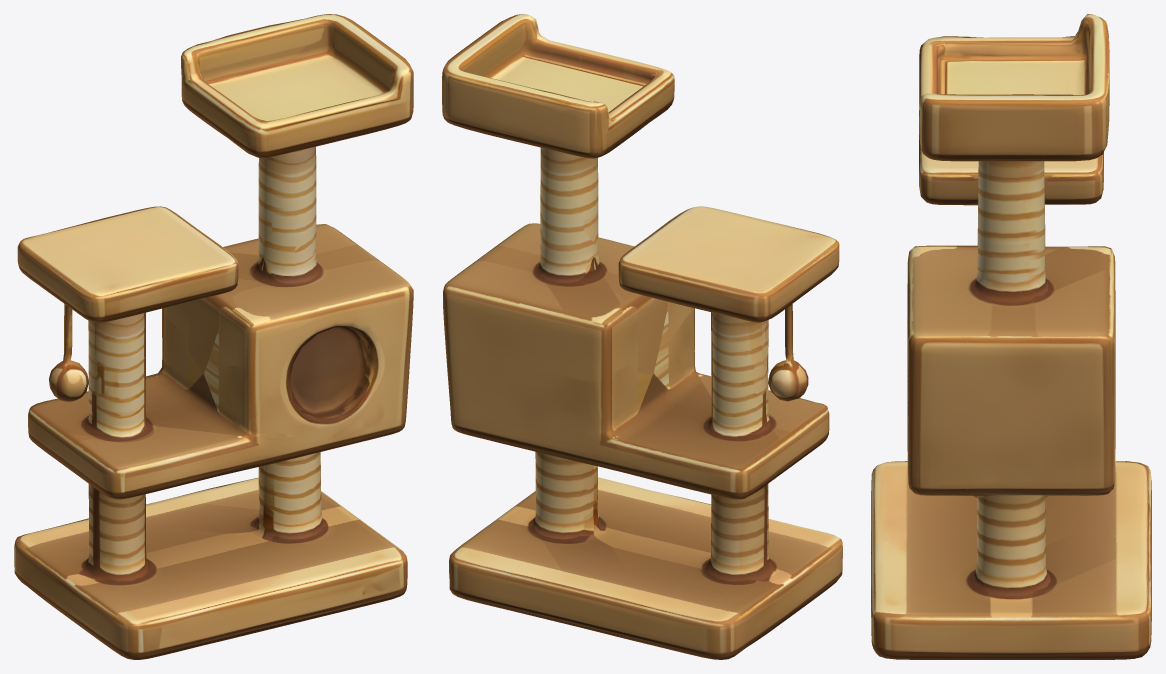
The model's file is cattower.obj.
3 views of the same model, side by side, from view 1: azimuth 30°, elevation 25°; view 2: azimuth 150°, elevation 25°; view 3: azimuth 270°, elevation 25° (orthographic). The views are drawn at different scales.
Visible parts, largest first — view 1: 60ce44d6-eabd-42ae-8cfb-a3463ad52caa; view 2: 60ce44d6-eabd-42ae-8cfb-a3463ad52caa; view 3: 60ce44d6-eabd-42ae-8cfb-a3463ad52caa.
Part boxes in pixels (bbox=[...]): 60ce44d6-eabd-42ae-8cfb-a3463ad52caa: bbox=[14, 14, 413, 659]; 60ce44d6-eabd-42ae-8cfb-a3463ad52caa: bbox=[442, 14, 842, 659]; 60ce44d6-eabd-42ae-8cfb-a3463ad52caa: bbox=[871, 14, 1151, 659].
Size of the model in its own units: 1.56 by 2.29 by 1.01.
Materials: 1 (1 with a texture image).
